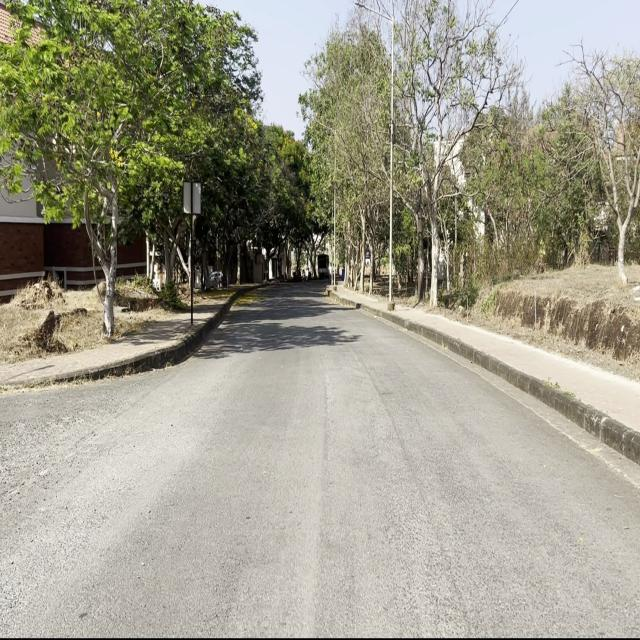Road: (3, 284, 639, 632)
